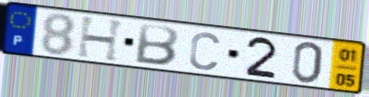0: (289, 40, 326, 85)
2: (244, 35, 279, 81)
8: (40, 11, 79, 58)
B: (132, 21, 181, 67)
C: (187, 30, 222, 72)
H: (75, 15, 128, 64)
